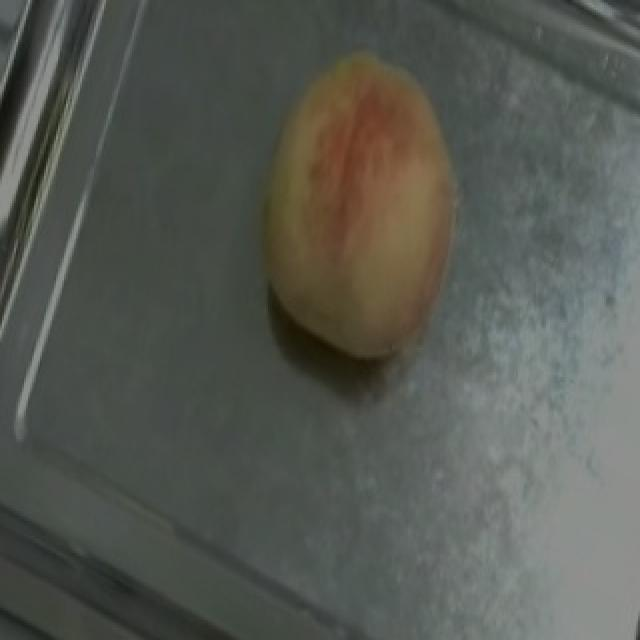Fruit: (210, 18, 504, 400)
